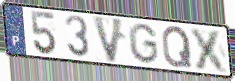3: (64, 14, 91, 59)
5: (29, 9, 58, 57)
G: (127, 22, 161, 66)
Q: (161, 24, 194, 69)
V: (91, 13, 126, 65)
X: (188, 26, 231, 75)
